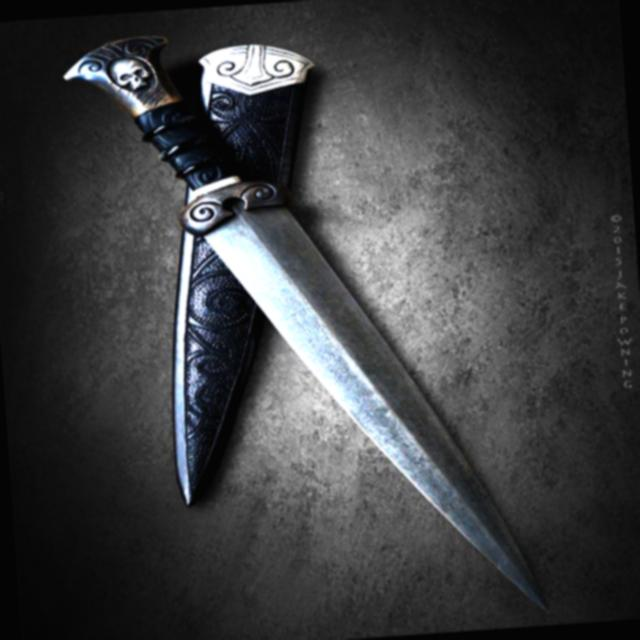short sword: (32, 9, 582, 640)
